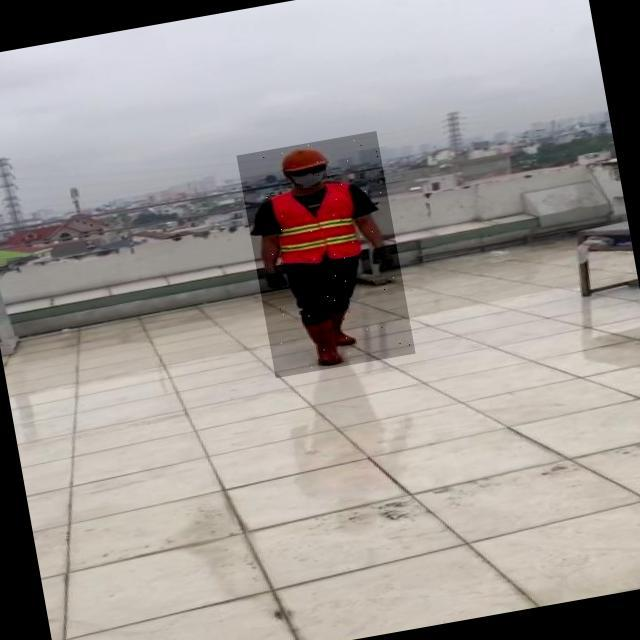Gloves: (369, 244, 401, 273), (262, 268, 288, 294)
Helmet: (272, 143, 335, 176)
Human: (236, 131, 415, 378)
Safety Boot: (302, 314, 344, 369), (328, 304, 362, 347)
Safety Vest: (269, 181, 360, 267)
